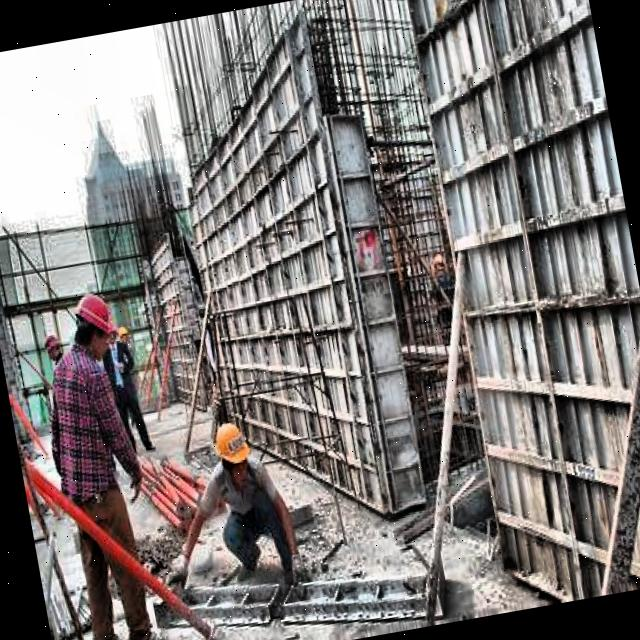helmet: (68, 284, 120, 358), (212, 417, 258, 486), (42, 326, 65, 366)
